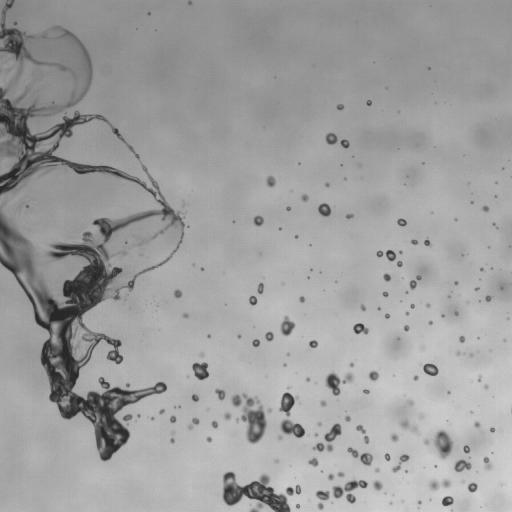droplet: (231, 392, 267, 444), (332, 477, 368, 503), (324, 370, 354, 395), (432, 430, 453, 459), (192, 362, 210, 380), (280, 315, 295, 336), (315, 490, 329, 510), (420, 362, 438, 376), (454, 459, 471, 472), (317, 203, 331, 217), (353, 323, 369, 334), (325, 132, 338, 145), (187, 417, 199, 430), (214, 388, 225, 401), (368, 370, 379, 382), (441, 496, 453, 507), (483, 456, 492, 470), (372, 480, 383, 491), (76, 103, 87, 114), (46, 168, 57, 179), (290, 196, 301, 207), (168, 199, 179, 210), (115, 209, 126, 220), (15, 223, 26, 234), (71, 234, 82, 245), (384, 260, 395, 271), (81, 310, 92, 321), (90, 322, 101, 333), (37, 328, 48, 339), (98, 341, 109, 352), (36, 365, 47, 376), (39, 374, 50, 385), (40, 382, 51, 393), (72, 384, 83, 395), (232, 405, 243, 416), (288, 412, 299, 423), (178, 414, 189, 425), (199, 418, 210, 429), (84, 422, 95, 433), (428, 445, 439, 456), (89, 447, 100, 458), (449, 449, 460, 460), (372, 454, 383, 465), (471, 457, 482, 468), (448, 470, 459, 481), (236, 476, 247, 487), (322, 481, 333, 492), (273, 484, 284, 495), (304, 486, 315, 497), (436, 486, 447, 497), (285, 494, 296, 505), (266, 175, 276, 187), (253, 215, 263, 226), (308, 340, 318, 350), (308, 457, 318, 467), (467, 482, 477, 492), (173, 288, 182, 298), (248, 295, 257, 305), (264, 331, 273, 341), (390, 433, 400, 442), (340, 139, 349, 148), (251, 338, 260, 347), (223, 411, 232, 420), (2, 190, 11, 199), (136, 204, 145, 213), (90, 224, 99, 233), (64, 236, 73, 245), (381, 280, 390, 289), (118, 287, 127, 296), (477, 289, 486, 298), (366, 303, 375, 312), (272, 327, 281, 336), (365, 379, 374, 388), (95, 385, 104, 394), (223, 393, 232, 402), (121, 404, 130, 413), (113, 411, 122, 420), (263, 413, 272, 422), (216, 416, 225, 425), (349, 417, 358, 426), (416, 419, 425, 428), (240, 420, 249, 429), (322, 423, 331, 432), (394, 426, 403, 435), (207, 427, 216, 436), (446, 429, 455, 438), (427, 430, 436, 439), (118, 444, 127, 453), (389, 456, 398, 465), (374, 472, 383, 481), (343, 473, 352, 482), (336, 478, 345, 487), (351, 487, 360, 496), (423, 487, 432, 496), (397, 218, 407, 226), (424, 237, 432, 247), (257, 282, 263, 294), (409, 280, 416, 290), (227, 505, 238, 511), (261, 505, 272, 511), (418, 505, 429, 511), (440, 505, 451, 511), (383, 273, 391, 281), (191, 394, 199, 402), (406, 399, 414, 407), (462, 445, 470, 453), (455, 350, 465, 356), (301, 194, 308, 202), (481, 205, 489, 212), (458, 335, 465, 343), (211, 420, 218, 428), (0, 164, 5, 175), (485, 295, 492, 302), (473, 421, 480, 428), (423, 438, 430, 445), (327, 473, 334, 480), (4, 22, 11, 29), (15, 23, 22, 30), (84, 43, 91, 50), (7, 51, 14, 58), (88, 52, 95, 59), (9, 68, 16, 75), (89, 81, 96, 88), (89, 107, 96, 114), (66, 111, 73, 118), (92, 170, 99, 177), (86, 171, 93, 178), (110, 174, 117, 181), (273, 175, 280, 182), (260, 179, 267, 186), (94, 212, 101, 219), (417, 237, 424, 244), (5, 269, 12, 276), (378, 309, 385, 316), (108, 332, 115, 339), (259, 337, 266, 344), (99, 338, 106, 345), (36, 342, 43, 349), (457, 342, 464, 349), (117, 346, 124, 353), (34, 351, 41, 358), (281, 355, 288, 362), (344, 365, 351, 372), (77, 368, 84, 375), (418, 370, 425, 377), (337, 372, 344, 379), (319, 376, 326, 383), (337, 382, 344, 389), (119, 383, 126, 390), (44, 387, 51, 394), (247, 391, 254, 398), (50, 401, 57, 408), (289, 405, 296, 412), (151, 409, 158, 416), (172, 409, 179, 416), (75, 411, 82, 418), (163, 411, 170, 418), (154, 413, 161, 420), (398, 413, 405, 420), (407, 417, 414, 424), (119, 419, 126, 426), (263, 425, 270, 432), (339, 425, 346, 432), (275, 427, 282, 434), (287, 432, 294, 439), (416, 435, 423, 442), (258, 436, 265, 443), (384, 436, 391, 443), (312, 449, 319, 456), (111, 451, 118, 458), (461, 453, 468, 460), (370, 459, 377, 466), (400, 461, 407, 468), (264, 469, 271, 476), (253, 474, 260, 481), (436, 476, 443, 483), (423, 477, 430, 484), (366, 482, 373, 489), (217, 487, 224, 494), (240, 494, 247, 501), (384, 494, 391, 501), (313, 496, 320, 503), (218, 498, 225, 505), (336, 104, 344, 110), (345, 213, 353, 219), (410, 239, 418, 245), (170, 415, 176, 423), (384, 453, 390, 461), (337, 471, 345, 477), (288, 506, 297, 511), (360, 304, 366, 311), (344, 415, 351, 421), (420, 343, 425, 351), (477, 374, 482, 382), (382, 291, 388, 297), (299, 296, 305, 302), (182, 312, 188, 318), (403, 325, 409, 331), (320, 400, 326, 406), (158, 408, 164, 414), (206, 436, 212, 442), (0, 38, 4, 47), (0, 192, 4, 201), (0, 245, 4, 254), (362, 389, 369, 394), (418, 412, 423, 419), (366, 100, 371, 106), (397, 261, 402, 267), (425, 302, 430, 308), (384, 313, 390, 318), (413, 374, 418, 380), (305, 376, 310, 382), (483, 384, 489, 389), (267, 407, 272, 413), (446, 419, 451, 425), (490, 427, 495, 433), (374, 467, 379, 473), (324, 182, 329, 187), (286, 206, 291, 211), (480, 267, 485, 272), (416, 275, 421, 280), (428, 320, 433, 325), (199, 352, 204, 357), (349, 362, 354, 367), (317, 421, 322, 426), (0, 0, 5, 5), (11, 2, 16, 7), (6, 7, 11, 12), (54, 20, 59, 25), (68, 27, 73, 32), (25, 30, 30, 35), (80, 38, 85, 43), (90, 59, 95, 64), (91, 65, 96, 70), (91, 71, 96, 76), (90, 78, 95, 83), (0, 83, 5, 88), (85, 90, 90, 95), (82, 95, 87, 100), (336, 99, 341, 104), (102, 112, 107, 117), (113, 123, 118, 128), (325, 128, 330, 133), (330, 128, 335, 133), (336, 136, 341, 141), (321, 138, 326, 143), (335, 139, 340, 144), (128, 140, 133, 145), (328, 143, 333, 148), (144, 162, 149, 167), (147, 168, 152, 173), (149, 171, 154, 176), (74, 172, 79, 177), (81, 172, 86, 177), (152, 175, 157, 180), (119, 177, 124, 182), (325, 177, 330, 182), (328, 181, 333, 186), (273, 182, 278, 187), (135, 183, 140, 188), (266, 185, 271, 190), (270, 185, 275, 190), (158, 186, 163, 191), (306, 191, 311, 196), (296, 194, 301, 199), (298, 199, 303, 204), (318, 199, 323, 204), (484, 201, 489, 206), (328, 203, 333, 208), (21, 206, 26, 211), (488, 206, 493, 211), (346, 209, 351, 214), (329, 210, 334, 215), (481, 210, 486, 215), (252, 211, 257, 216), (258, 211, 263, 216), (315, 211, 320, 216), (319, 214, 324, 219), (262, 217, 267, 222), (249, 219, 254, 224), (259, 223, 264, 228), (253, 224, 258, 229), (82, 227, 87, 232), (428, 237, 433, 242), (388, 245, 393, 250), (381, 248, 386, 253), (393, 249, 398, 254), (381, 253, 386, 258), (392, 258, 397, 263), (401, 261, 406, 266), (162, 262, 167, 267), (483, 265, 488, 270), (312, 268, 317, 273), (145, 270, 150, 275), (387, 270, 392, 275), (416, 270, 421, 275), (308, 271, 313, 276), (420, 273, 425, 278), (379, 276, 384, 281), (133, 281, 138, 286), (253, 283, 258, 288), (16, 284, 21, 289), (405, 285, 410, 290), (178, 286, 183, 291), (262, 286, 267, 291), (18, 287, 23, 292), (20, 290, 25, 295), (487, 290, 492, 295), (169, 291, 174, 296), (181, 291, 186, 296), (253, 291, 258, 296), (23, 295, 28, 300), (177, 296, 182, 301), (480, 296, 485, 301), (294, 297, 299, 302), (114, 299, 119, 304), (27, 302, 32, 307), (364, 303, 369, 308), (429, 304, 434, 309), (406, 306, 411, 311), (184, 308, 189, 313), (187, 310, 192, 315), (29, 312, 34, 317), (288, 316, 293, 321), (278, 317, 283, 322), (356, 318, 361, 323), (408, 326, 413, 331), (290, 328, 295, 333), (358, 331, 363, 336), (248, 336, 253, 341), (307, 336, 312, 341), (464, 336, 469, 341), (119, 338, 124, 343), (316, 343, 321, 348), (109, 345, 114, 350), (250, 345, 255, 350), (458, 354, 463, 359), (197, 359, 202, 364), (86, 360, 91, 365), (110, 360, 115, 365), (205, 366, 210, 371), (367, 367, 372, 372), (437, 368, 442, 373), (189, 369, 194, 374), (424, 373, 429, 378), (103, 376, 108, 381), (193, 376, 198, 381), (365, 376, 370, 381), (376, 376, 381, 381), (75, 377, 80, 382), (158, 377, 163, 382), (202, 377, 207, 382), (414, 379, 419, 384), (164, 380, 169, 385), (150, 381, 155, 386), (305, 381, 310, 386), (217, 385, 222, 390), (126, 386, 131, 391), (282, 387, 287, 392), (327, 387, 332, 392), (192, 389, 197, 394), (160, 391, 165, 396), (290, 391, 295, 396), (152, 392, 157, 397), (213, 392, 218, 397), (277, 393, 282, 398), (197, 394, 202, 399), (331, 394, 336, 399), (139, 397, 144, 402), (189, 399, 194, 404), (315, 401, 320, 406), (276, 402, 281, 407), (321, 405, 326, 410), (280, 410, 285, 415), (346, 411, 351, 416), (131, 413, 136, 418), (194, 413, 199, 418), (230, 416, 235, 421), (475, 416, 480, 421), (62, 417, 67, 422), (187, 418, 192, 423), (86, 419, 91, 424), (478, 419, 483, 424), (469, 420, 474, 425), (300, 422, 305, 427), (192, 423, 197, 428), (207, 423, 212, 428), (417, 425, 422, 430), (473, 426, 478, 431), (356, 429, 361, 434), (364, 430, 369, 435), (172, 434, 177, 439), (301, 434, 306, 439), (334, 434, 339, 439), (385, 434, 390, 439), (201, 436, 206, 441), (126, 437, 131, 442), (368, 437, 373, 442), (322, 440, 327, 445), (329, 440, 334, 445), (206, 441, 211, 446), (311, 441, 316, 446), (168, 442, 173, 447), (351, 444, 356, 449), (422, 444, 427, 449), (322, 447, 327, 452), (402, 449, 407, 454), (357, 450, 362, 455), (468, 450, 473, 455), (346, 451, 351, 456), (307, 455, 312, 460), (488, 456, 493, 461), (464, 457, 469, 462), (105, 458, 110, 463), (480, 461, 485, 466), (307, 463, 312, 468), (315, 464, 320, 469), (225, 467, 230, 472), (339, 467, 344, 472), (462, 467, 467, 472), (397, 468, 402, 473), (486, 469, 491, 474), (323, 472, 328, 477), (354, 476, 359, 481), (362, 476, 367, 481), (472, 478, 477, 483), (465, 479, 470, 484), (463, 482, 468, 487), (321, 487, 326, 492), (379, 487, 384, 492), (464, 488, 469, 493), (474, 488, 479, 493), (328, 491, 333, 496), (390, 496, 395, 501), (437, 497, 442, 502), (354, 498, 359, 503), (321, 499, 326, 504), (344, 500, 349, 505), (446, 504, 451, 509), (454, 310, 458, 316), (474, 287, 479, 291), (206, 334, 211, 338), (236, 334, 241, 338), (314, 432, 318, 437), (274, 459, 279, 463), (404, 469, 409, 473), (296, 504, 300, 509), (286, 386, 292, 389), (13, 21, 17, 25), (294, 234, 298, 238), (200, 267, 204, 271), (454, 281, 458, 285), (410, 304, 414, 308), (377, 306, 381, 310), (405, 311, 409, 315), (502, 338, 506, 342), (286, 352, 290, 356), (469, 353, 473, 357), (185, 374, 189, 378), (446, 390, 450, 394), (150, 416, 154, 420), (461, 479, 465, 483), (400, 499, 404, 503), (417, 500, 421, 504), (188, 0, 191, 5), (508, 312, 511, 317), (319, 508, 324, 511), (358, 163, 361, 167), (494, 181, 498, 184), (470, 200, 473, 204), (278, 227, 282, 230), (399, 250, 402, 254), (405, 290, 408, 294), (447, 295, 451, 298), (441, 314, 445, 317), (506, 317, 510, 320), (396, 337, 400, 340), (283, 363, 286, 367), (469, 410, 473, 413), (137, 414, 140, 418), (434, 464, 437, 468), (500, 483, 504, 486), (389, 501, 392, 505), (0, 13, 2, 18), (0, 50, 2, 55), (0, 262, 2, 267), (147, 12, 150, 15), (427, 67, 430, 70), (344, 177, 347, 180), (494, 195, 497, 198), (430, 211, 433, 214), (454, 218, 457, 221), (232, 220, 235, 223), (487, 246, 490, 249), (192, 263, 195, 266), (310, 268, 313, 271), (334, 280, 337, 283), (188, 4, 191, 7), (145, 9, 148, 12), (150, 12, 153, 15), (146, 14, 149, 17), (430, 66, 433, 69), (424, 67, 427, 70), (427, 69, 430, 72), (369, 97, 372, 100), (370, 102, 373, 105), (343, 104, 346, 107), (365, 104, 368, 107), (342, 107, 345, 110), (337, 109, 340, 112), (96, 111, 99, 114), (123, 137, 126, 140), (347, 145, 350, 148), (135, 150, 138, 153), (138, 153, 141, 156), (297, 158, 300, 161), (421, 158, 424, 161), (339, 160, 342, 163), (294, 162, 297, 165), (299, 163, 302, 166), (342, 163, 345, 166), (423, 163, 426, 166), (337, 164, 340, 167), (498, 166, 501, 169), (503, 167, 506, 170), (340, 176, 343, 179), (493, 183, 496, 186), (324, 186, 327, 189), (147, 191, 150, 194), (495, 192, 498, 195), (491, 193, 494, 196), (26, 196, 29, 199), (470, 197, 473, 200), (467, 199, 470, 202), (25, 201, 28, 204), (287, 203, 290, 206), (470, 203, 473, 206), (28, 204, 31, 207), (283, 207, 286, 210), (287, 210, 290, 213), (402, 216, 405, 219), (456, 216, 459, 219), (233, 217, 236, 220), (344, 217, 347, 220), (349, 217, 352, 220), (229, 218, 232, 221), (394, 218, 397, 221), (90, 219, 93, 222), (451, 219, 454, 222), (455, 220, 458, 223), (229, 221, 232, 224), (234, 221, 237, 224), (394, 221, 397, 224), (495, 223, 498, 226), (279, 224, 282, 227), (183, 225, 186, 228), (399, 225, 402, 228), (492, 225, 495, 228), (275, 226, 278, 229), (279, 229, 282, 232), (182, 234, 185, 237), (291, 234, 294, 237), (297, 235, 300, 238), (413, 236, 416, 239), (423, 236, 426, 239), (181, 237, 184, 240), (179, 242, 182, 245), (311, 243, 314, 246), (411, 243, 414, 246), (307, 245, 310, 248), (425, 245, 428, 248), (176, 248, 179, 251), (173, 251, 176, 254), (373, 251, 376, 254), (167, 259, 170, 262), (479, 264, 482, 267), (157, 265, 160, 268), (202, 265, 205, 268), (310, 265, 313, 268), (492, 265, 495, 268), (307, 266, 310, 269), (397, 266, 400, 269), (153, 267, 156, 270), (197, 267, 200, 270), (476, 267, 479, 270), (489, 269, 492, 272), (480, 270, 483, 273), (309, 275, 312, 278), (304, 277, 307, 280), (414, 278, 417, 281), (455, 278, 458, 281), (259, 279, 262, 282), (457, 281, 460, 284), (451, 282, 454, 285), (474, 284, 477, 287), (383, 288, 386, 291), (476, 289, 479, 292), (387, 291, 390, 294), (449, 292, 452, 295), (300, 293, 303, 296), (404, 293, 407, 296), (246, 295, 249, 298), (303, 295, 306, 298), (381, 295, 384, 298), (446, 297, 449, 300), (490, 297, 493, 300), (396, 299, 399, 302), (475, 299, 478, 302), (246, 300, 249, 303), (410, 300, 413, 303), (427, 300, 430, 303), (248, 303, 251, 306), (254, 303, 257, 306), (407, 303, 410, 306), (375, 304, 378, 307), (379, 305, 382, 308), (413, 306, 416, 309), (358, 307, 361, 310), (455, 308, 458, 311), (361, 310, 364, 313), (386, 310, 389, 313), (402, 311, 405, 314), (442, 311, 445, 314), (458, 311, 461, 314), (438, 312, 441, 315), (451, 312, 454, 315), (505, 313, 508, 316), (382, 316, 385, 319), (442, 316, 445, 319), (183, 317, 186, 320), (386, 317, 389, 320), (428, 317, 431, 320), (431, 318, 434, 321), (425, 320, 428, 323), (430, 323, 433, 326), (401, 328, 404, 331), (265, 329, 268, 332), (351, 329, 354, 332), (208, 331, 211, 334), (236, 331, 239, 334), (367, 331, 370, 334), (204, 332, 207, 335), (459, 332, 462, 335), (210, 334, 213, 337), (234, 335, 237, 338), (240, 335, 243, 338), (252, 336, 255, 339), (473, 336, 476, 339), (479, 336, 482, 339), (206, 337, 209, 340), (456, 337, 459, 340), (267, 340, 270, 343), (249, 342, 252, 345), (306, 342, 309, 345), (256, 345, 259, 348), (307, 345, 310, 348), (91, 350, 94, 353), (283, 351, 286, 354), (104, 352, 107, 355), (90, 353, 93, 356), (89, 356, 92, 359), (122, 356, 125, 359), (347, 360, 350, 363), (352, 360, 355, 363), (427, 360, 430, 363), (119, 361, 122, 364), (280, 361, 283, 364), (286, 362, 289, 365), (434, 363, 437, 366), (282, 366, 285, 369), (304, 374, 307, 377), (96, 375, 99, 378), (410, 375, 413, 378), (475, 376, 478, 379), (309, 377, 312, 380), (480, 377, 483, 380), (365, 386, 368, 389), (449, 389, 452, 392), (362, 392, 365, 395), (447, 393, 450, 396), (335, 394, 338, 397), (188, 395, 191, 398), (257, 396, 260, 399), (175, 403, 178, 406), (180, 404, 183, 407), (159, 406, 162, 409), (471, 408, 474, 411), (507, 409, 510, 412), (148, 414, 151, 417), (139, 415, 142, 418), (349, 415, 352, 418), (175, 416, 178, 419), (444, 416, 447, 419), (317, 418, 320, 421), (151, 419, 154, 422), (167, 419, 170, 422), (198, 419, 201, 422), (355, 422, 358, 425), (490, 424, 493, 427), (487, 426, 490, 429), (493, 430, 496, 433), (489, 431, 492, 434), (303, 432, 306, 435), (361, 433, 364, 436), (210, 435, 213, 438), (167, 437, 170, 440), (463, 442, 466, 445), (467, 444, 470, 447), (344, 447, 347, 450), (460, 448, 463, 451), (490, 448, 493, 451), (389, 454, 392, 457), (383, 458, 386, 461), (480, 458, 483, 461), (433, 461, 436, 464), (436, 465, 439, 468), (433, 467, 436, 470), (406, 471, 409, 474), (476, 485, 479, 488), (300, 488, 303, 491), (417, 497, 420, 500), (299, 503, 302, 506), (416, 503, 419, 506), (397, 110, 399, 113), (461, 254, 464, 256), (490, 267, 493, 269), (307, 276, 309, 279), (500, 287, 503, 289), (478, 299, 480, 302), (392, 374, 395, 376), (207, 407, 209, 410), (307, 433, 309, 436), (468, 456, 470, 459), (320, 470, 323, 472), (429, 498, 431, 501), (450, 509, 453, 511), (509, 316, 511, 319), (352, 155, 354, 157), (298, 162, 300, 164), (422, 162, 424, 164), (340, 164, 342, 166), (187, 225, 189, 227), (309, 244, 311, 246), (319, 271, 321, 273), (479, 278, 481, 280), (400, 300, 402, 302), (477, 337, 479, 339), (384, 492, 386, 494), (331, 501, 333, 503), (417, 507, 419, 509), (185, 0, 188, 1), (190, 0, 193, 1), (373, 61, 374, 63), (253, 326, 255, 327), (491, 452, 493, 453), (392, 494, 394, 495), (225, 304, 226, 305)
ligament: (312, 422, 341, 452), (347, 446, 373, 466), (399, 418, 420, 435), (391, 454, 409, 473), (428, 478, 451, 491), (356, 424, 369, 444), (376, 249, 396, 261), (170, 430, 175, 443), (492, 222, 498, 229), (173, 405, 181, 408), (182, 200, 185, 207), (137, 253, 144, 256), (502, 167, 504, 170)
